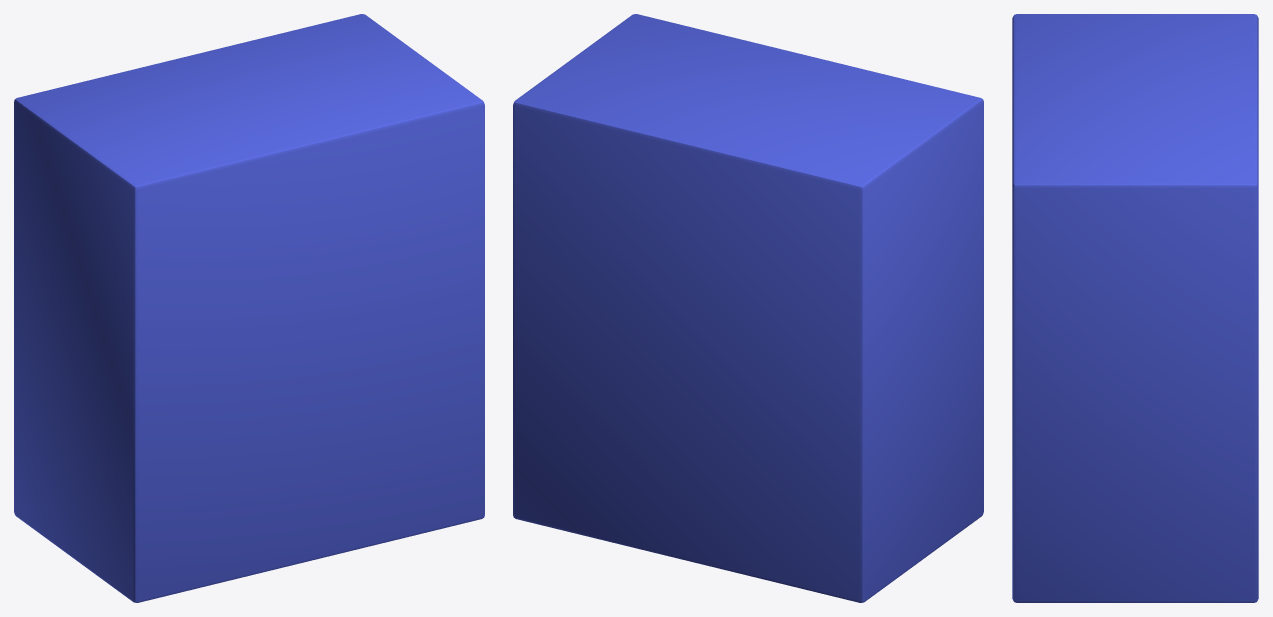
Rendered from Stand01.fbx.
3 views of the same model, side by side, from view 1: azimuth 30°, elevation 25°; view 2: azimuth 150°, elevation 25°; view 3: azimuth 270°, elevation 25° (orthographic).
Visible parts, largest first — view 1: Plane.003; view 2: Plane.003; view 3: Plane.003.
Boxes of the visible parts, x1=… form: Plane.003: x1=14, y1=14, x2=484, y2=602; Plane.003: x1=513, y1=14, x2=983, y2=602; Plane.003: x1=1012, y1=14, x2=1258, y2=602.
Size of the model in its own units: 278 by 316 by 168.
